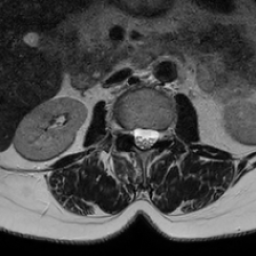CCS_normal: (141, 120, 150, 156)
LFS_normal: (159, 121, 167, 148)
LLS_normal: (150, 120, 159, 154)
RFS_stenosis: (123, 119, 131, 142)
RLS_normal: (131, 120, 141, 152)
